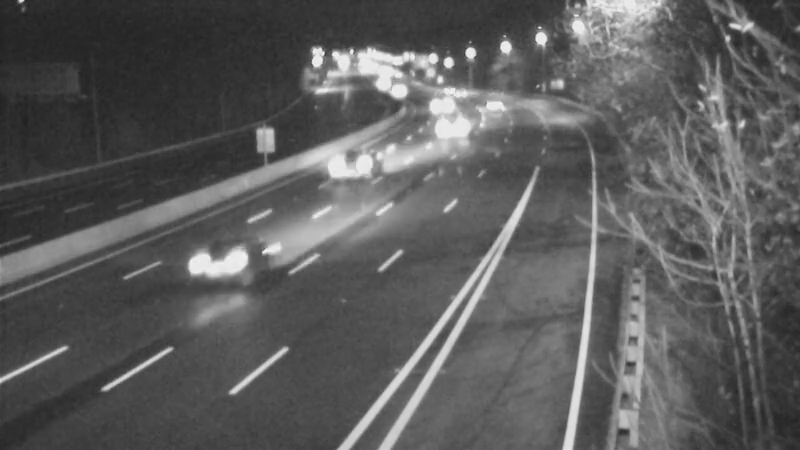vehicle: (316, 122, 396, 202), (182, 222, 262, 302), (373, 65, 423, 115), (427, 68, 477, 118), (436, 71, 486, 121), (468, 83, 518, 133), (416, 78, 466, 128), (430, 97, 480, 147)
